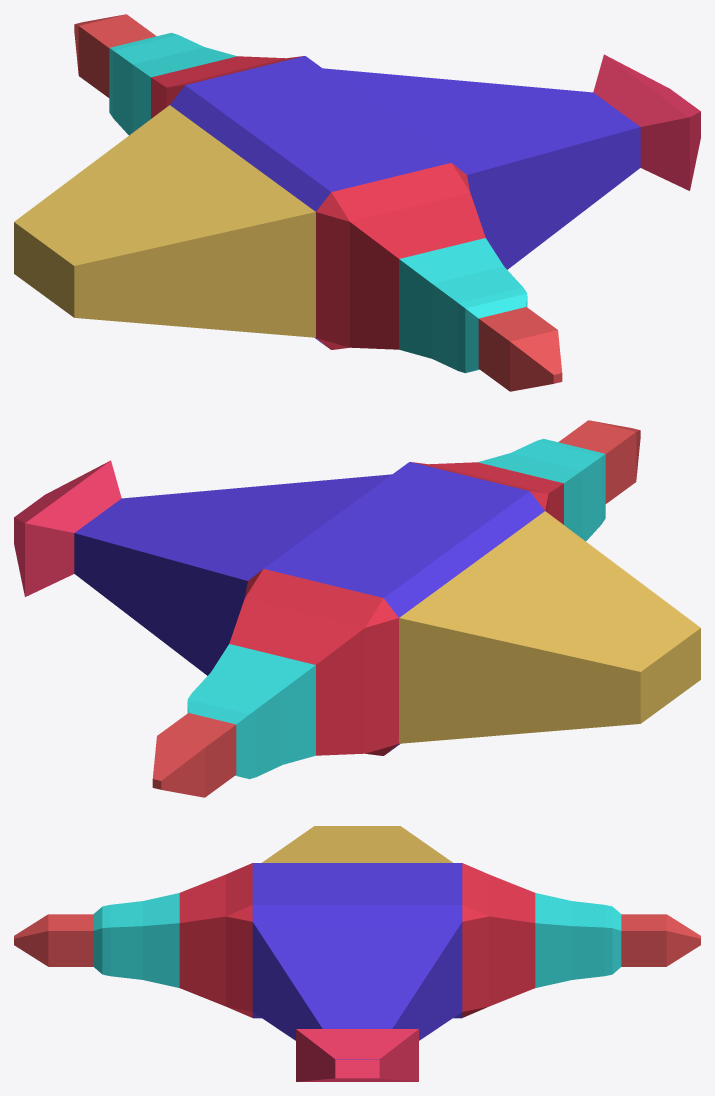
File: ship.fbx
The picture shows the model from 3 angles, top to bottom: view 1: azimuth 30°, elevation 25°; view 2: azimuth 150°, elevation 25°; view 3: azimuth 270°, elevation 25°; orthographic projection. The views are drawn at different scales.
Parts seen in each view (by area): view 1: Cube.003; view 2: Cube.003; view 3: Cube.003.
Boxes of the visible parts, <box> form: Cube.003: <box>14,14,700,391</box>; Cube.003: <box>14,420,700,797</box>; Cube.003: <box>14,826,700,1081</box>.
Size of the model in its own units: 271 by 63.83 by 351.
